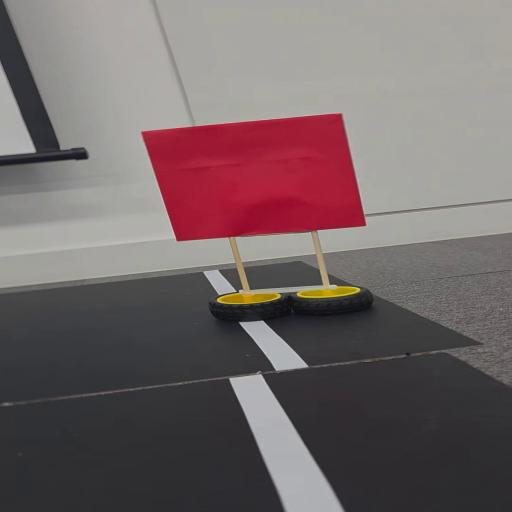Sign_A: (136, 112, 366, 323)
